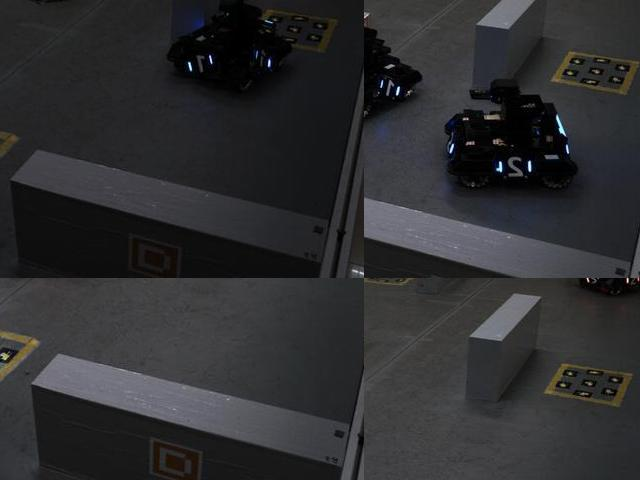armor: (491, 152, 538, 180), (185, 51, 220, 80), (374, 75, 406, 103), (250, 50, 280, 74), (583, 278, 603, 290), (620, 278, 639, 289)
